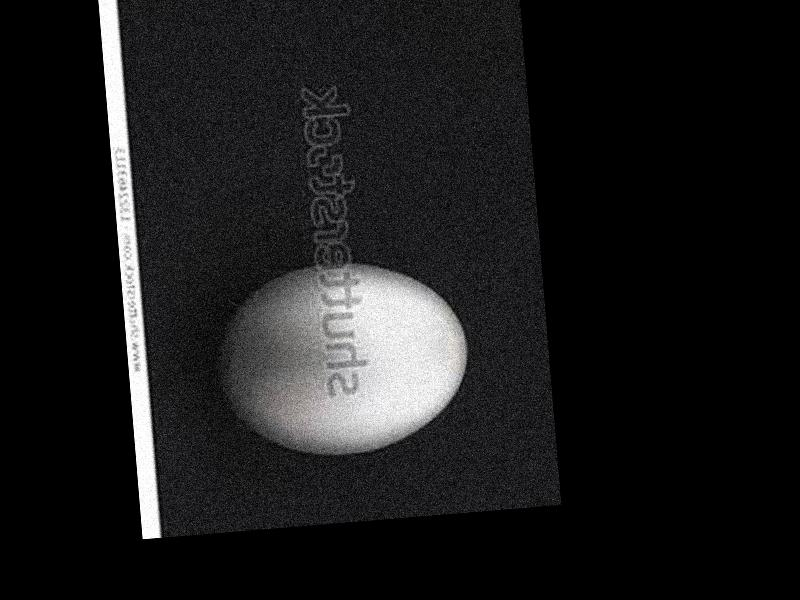Eggs: (214, 258, 477, 465)
